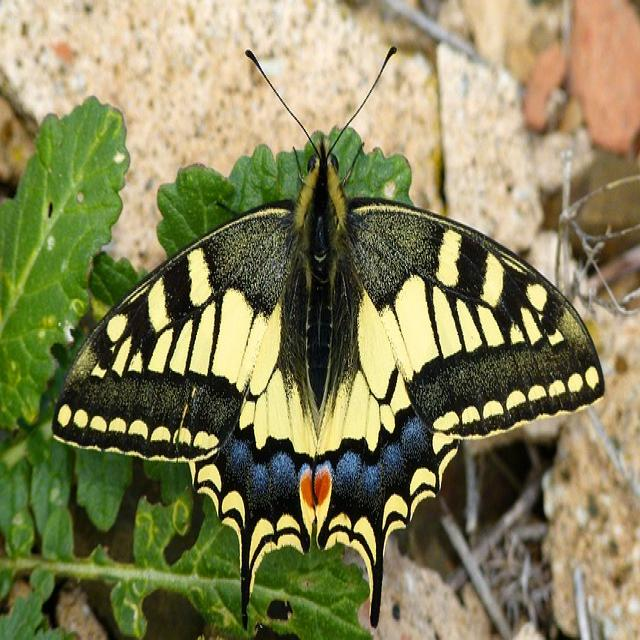butterfly: (53, 140, 606, 628)
